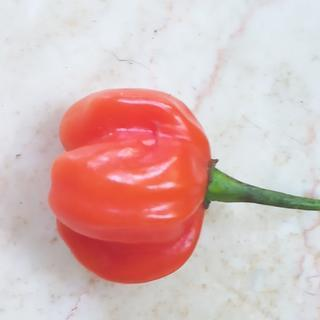Grade-B: (41, 78, 214, 285)
